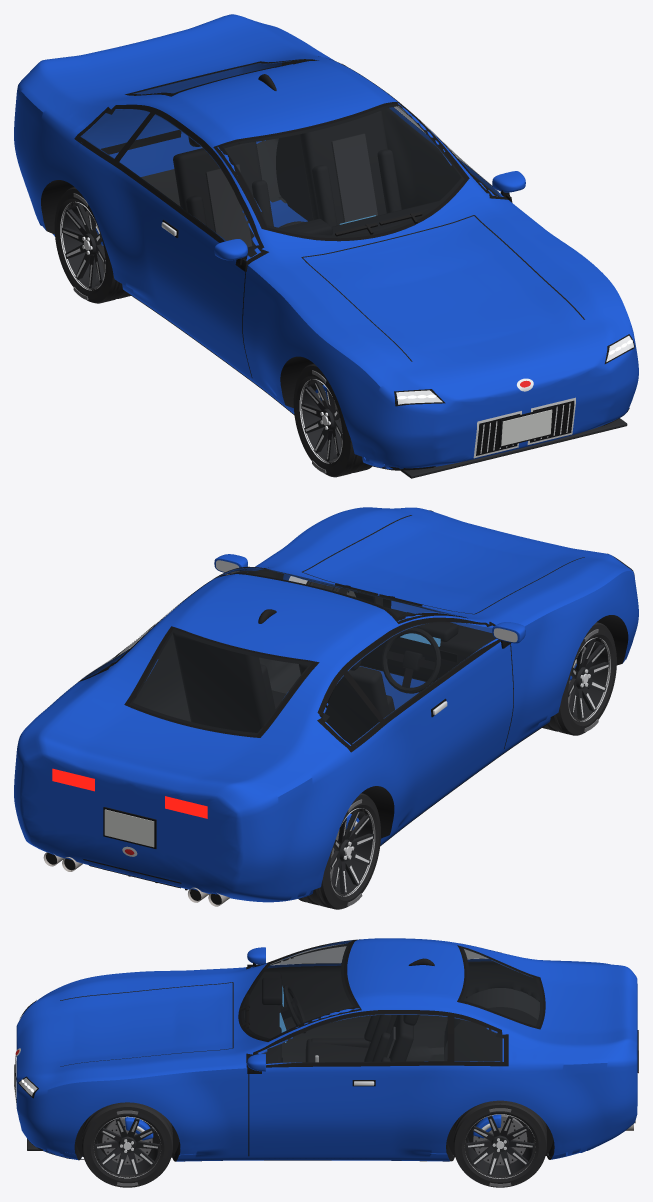
3 renders of one model, top to bottom at view 1: azimuth 30°, elevation 25°; view 2: azimuth 150°, elevation 25°; view 3: azimuth 270°, elevation 25°, orthographic. The views are drawn at different scales.
Visible parts, largest first — view 1: Body, Wheel_RR, Wheel_FR; view 2: Body, Wheel_RR, Wheel_FR; view 3: Body, Wheel_RL, Wheel_FL.
Boxes of the visible parts, box(x1,y1,x2,y2) form: Body: box(14, 14, 638, 478); Wheel_RR: box(54, 187, 130, 303); Wheel_FR: box(293, 363, 372, 477); Body: box(14, 507, 638, 906); Wheel_RR: box(298, 793, 380, 909); Wheel_FR: box(542, 622, 616, 735); Body: box(14, 938, 638, 1161); Wheel_RL: box(453, 1100, 546, 1187); Wheel_FL: box(82, 1102, 172, 1187).
Size of the model in its own units: 2.04 by 1.45 by 4.61.
